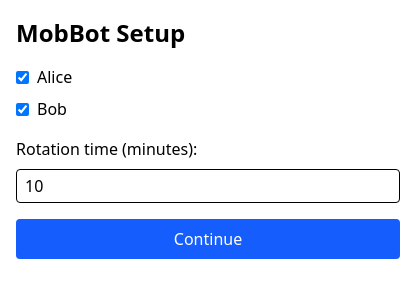
Scenario: AppRouter › navigates to main screen on continue
expect the heading "MobBot Setup" is shown: met, box [16, 16, 185, 49]
Step 1. Click the button "Continue" → [208, 239], box [16, 219, 400, 259]
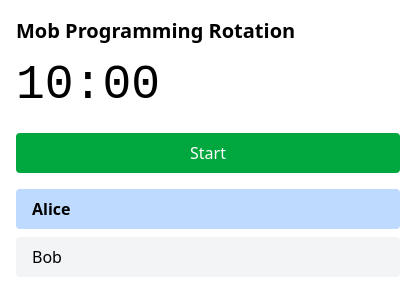
expect the heading "Mob Programming Rotation" is shown: met, box [16, 17, 295, 44]
